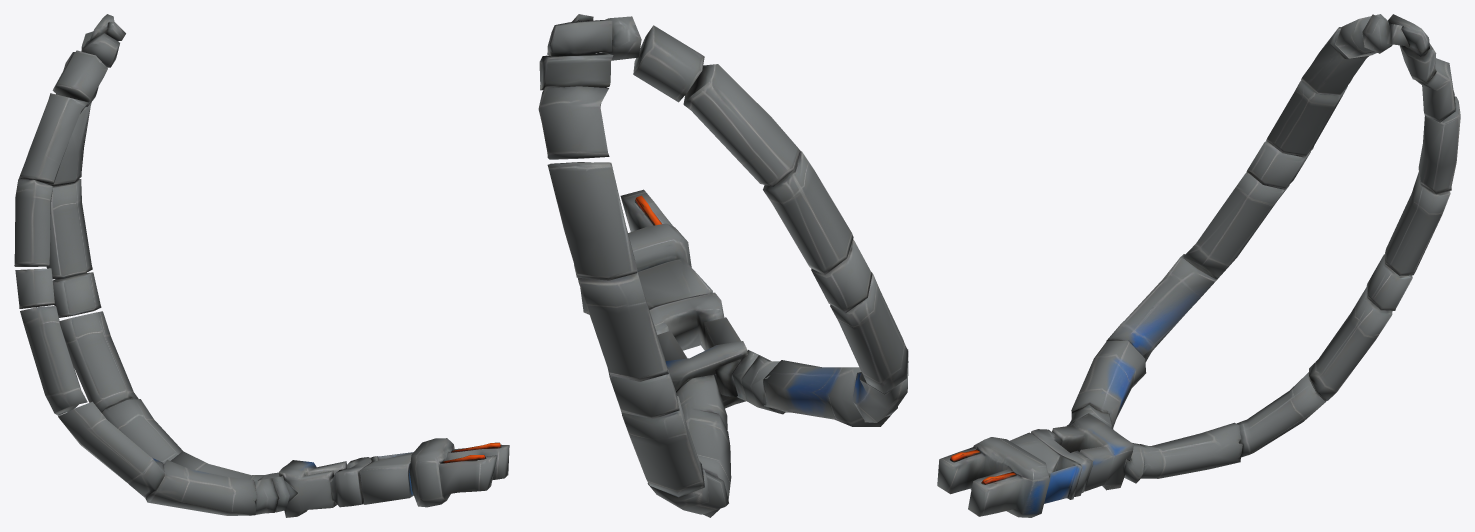
Rendered from blue_cable_segment.glb.
3 renders of one model, left to right at view 1: azimuth 30°, elevation 25°; view 2: azimuth 150°, elevation 25°; view 3: azimuth 270°, elevation 25°, orthographic. The views are drawn at different scales.
Parts seen in each view (by area): view 1: tripo_node_a69cf677-e440-43fe-b010-dbb4e74d9504; view 2: tripo_node_a69cf677-e440-43fe-b010-dbb4e74d9504; view 3: tripo_node_a69cf677-e440-43fe-b010-dbb4e74d9504.
Boxes of the visible parts, <box> form: tripo_node_a69cf677-e440-43fe-b010-dbb4e74d9504: <box>14,14,509,517</box>; tripo_node_a69cf677-e440-43fe-b010-dbb4e74d9504: <box>538,14,908,517</box>; tripo_node_a69cf677-e440-43fe-b010-dbb4e74d9504: <box>937,14,1460,517</box>.
Bounding box in the file's own units: 0.4499 × 0.5 × 0.5334.
Materials: 1 (1 with a texture image).
